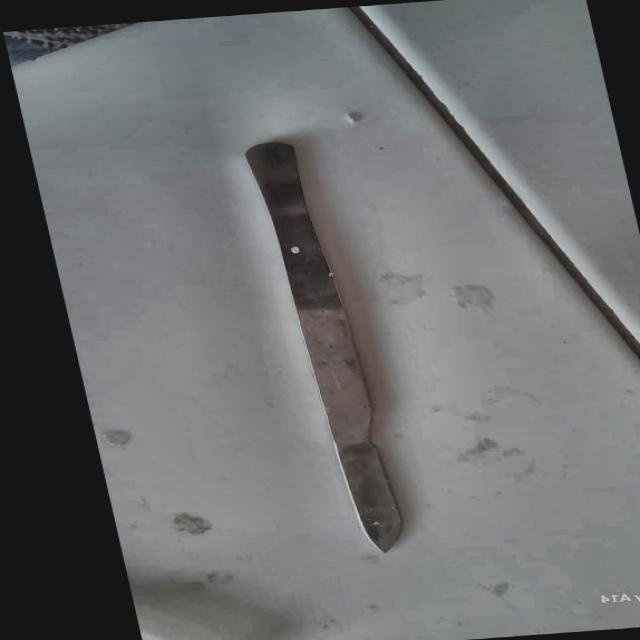Knife: (234, 130, 419, 558)
